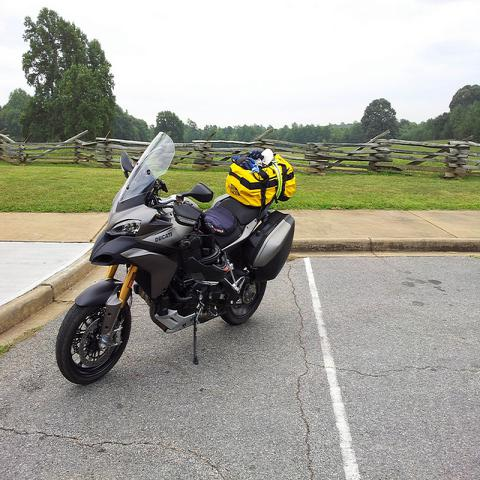motorcycle: (56, 132, 296, 380)
